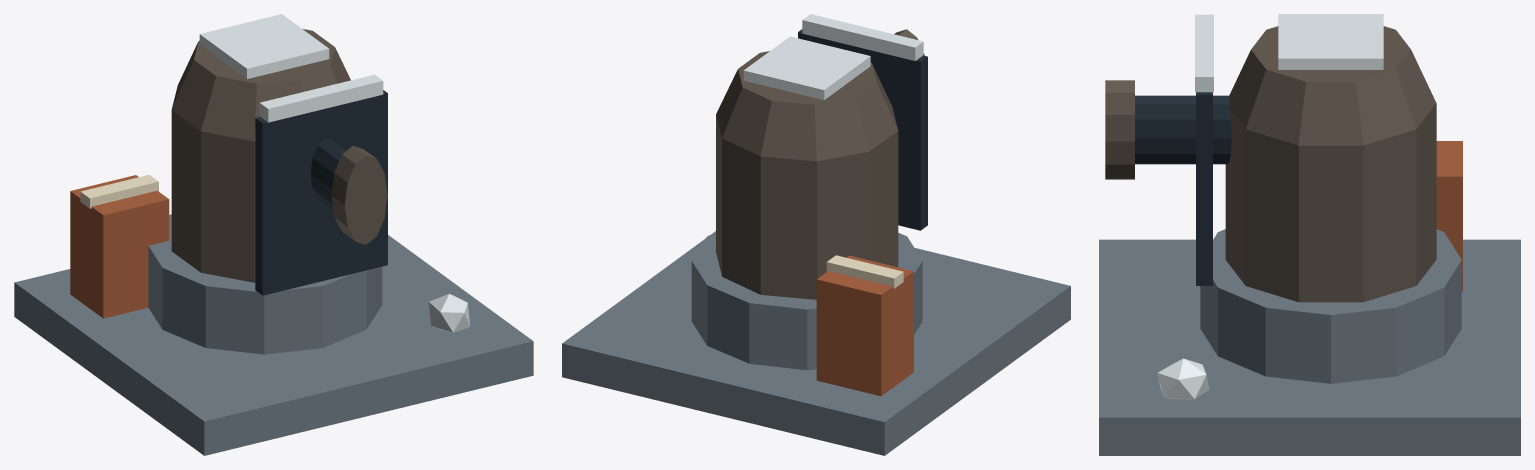
Rendered from gun_turret.glb.
3 views of the same model, side by side, from view 1: azimuth 30°, elevation 25°; view 2: azimuth 150°, elevation 25°; view 3: azimuth 270°, elevation 25° (orthographic). The views are drawn at different scales.
Parts seen in each view (by area): view 1: gun_turret; view 2: gun_turret; view 3: gun_turret.
Part boxes in pixels (x1,y1,x2,y2): gun_turret: (14, 14, 533, 455); gun_turret: (562, 14, 1070, 455); gun_turret: (1099, 14, 1520, 455).
Bounding box in the file's own units: 1 × 0.865 × 1.
Materials: 1 (1 with a texture image).
